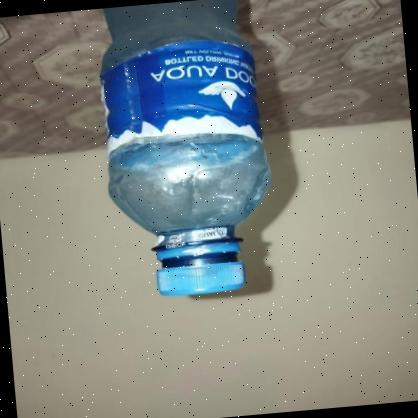bottle: (87, 0, 286, 315)
cap: (152, 238, 257, 305)
label: (93, 36, 275, 161)
